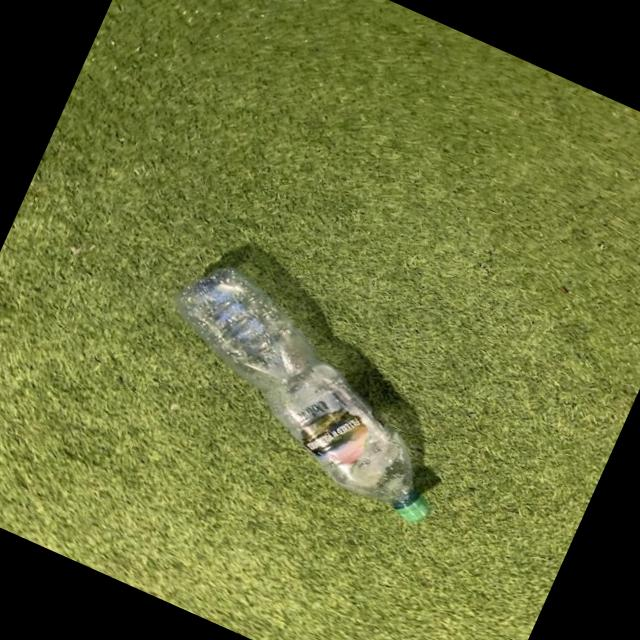BotolPlastik: (132, 234, 496, 531)
